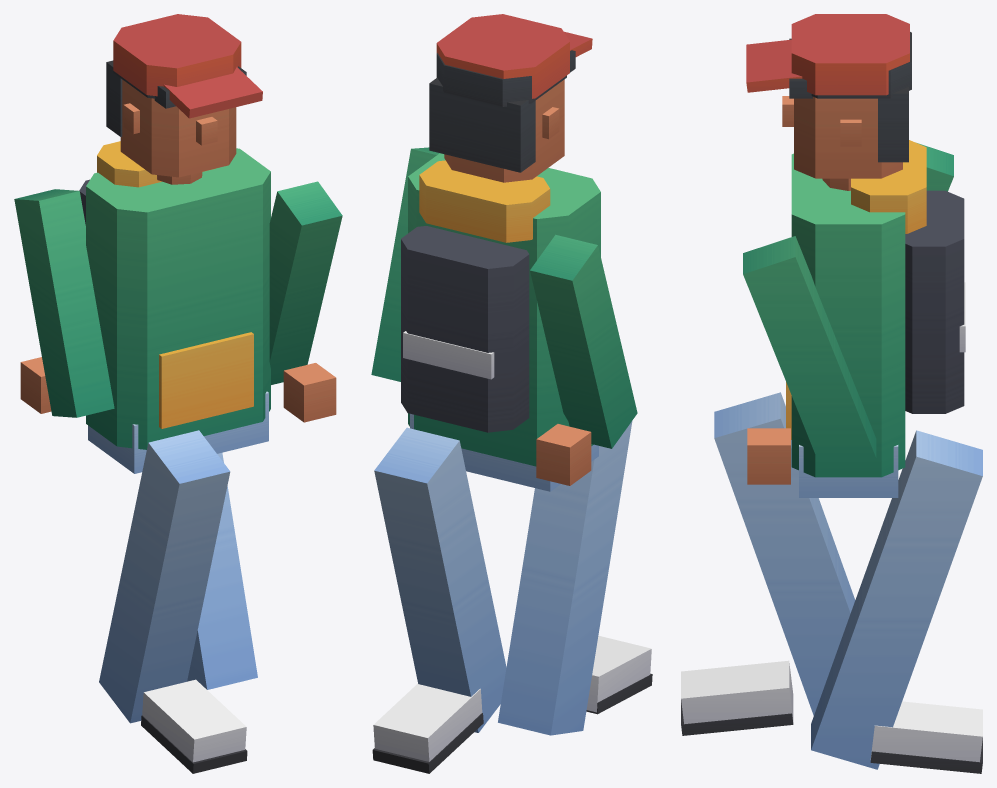
The model's file is citizen_student_m.glb.
The picture shows the model from 3 angles, left to right: view 1: azimuth 30°, elevation 25°; view 2: azimuth 150°, elevation 25°; view 3: azimuth 270°, elevation 25°; orthographic projection. The views are drawn at different scales.
Visible parts, largest first — view 1: citizen_student_m; view 2: citizen_student_m; view 3: citizen_student_m.
Boxes of the visible parts, x1,y1,x2,y2 form: citizen_student_m: [14, 14, 342, 773]; citizen_student_m: [371, 14, 652, 773]; citizen_student_m: [681, 14, 982, 773].
Size of the model in its own units: 0.596 by 1.64 by 0.6381.
Materials: 1 (1 with a texture image).
